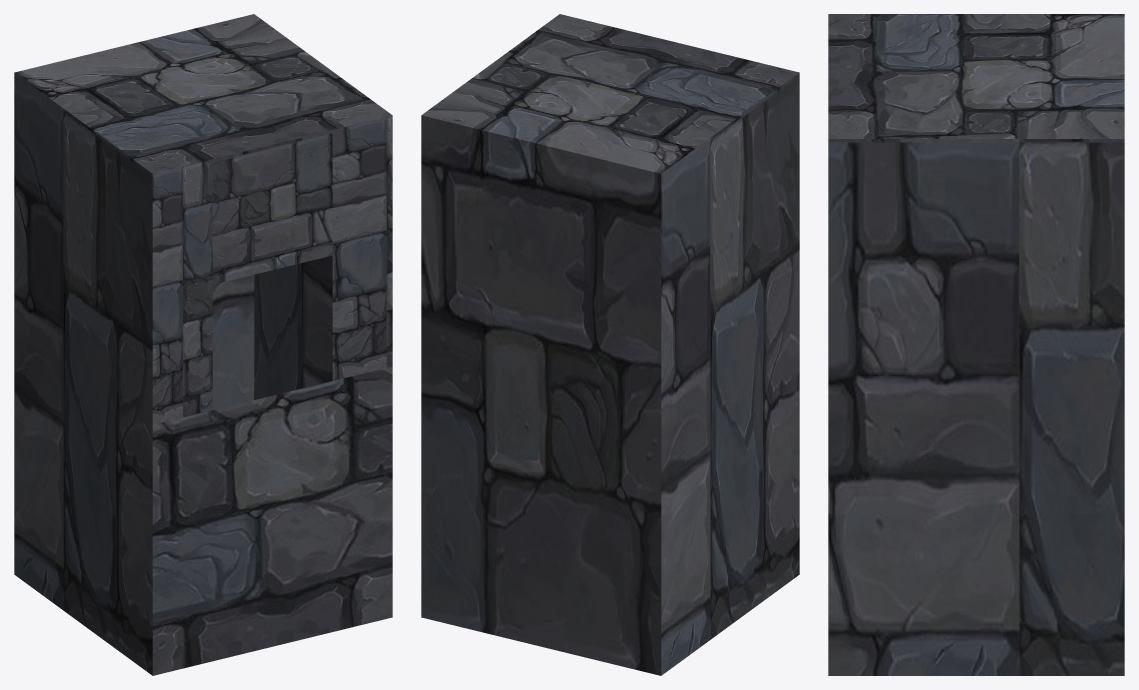
File: selecteur_symbole.obj
The picture shows the model from 3 angles, left to right: view 1: azimuth 30°, elevation 25°; view 2: azimuth 150°, elevation 25°; view 3: azimuth 270°, elevation 25°; orthographic projection. The views are drawn at different scales.
Parts seen in each view (by area): view 1: selecteur_symbole:pCube1, selecteur_symbole:pPlane1, pPlane2, selecteur_symbole:pasted__pPlane2 selecteur_symbole:group, pPlane1; view 2: selecteur_symbole:pCube1; view 3: selecteur_symbole:pCube1.
Part boxes in pixels (x1,y1,x2,y2): selecteur_symbole:pCube1: [14, 14, 392, 675]; selecteur_symbole:pPlane1: [152, 366, 392, 675]; pPlane2: [152, 159, 212, 424]; selecteur_symbole:pasted__pPlane2 selecteur_symbole:group: [332, 115, 392, 380]; pPlane1: [212, 130, 332, 284]; selecteur_symbole:pCube1: [421, 14, 799, 675]; selecteur_symbole:pCube1: [828, 14, 1124, 675].
Bounding box in the file's own units: 4 × 8 × 4.
Materials: 1 (1 with a texture image).
